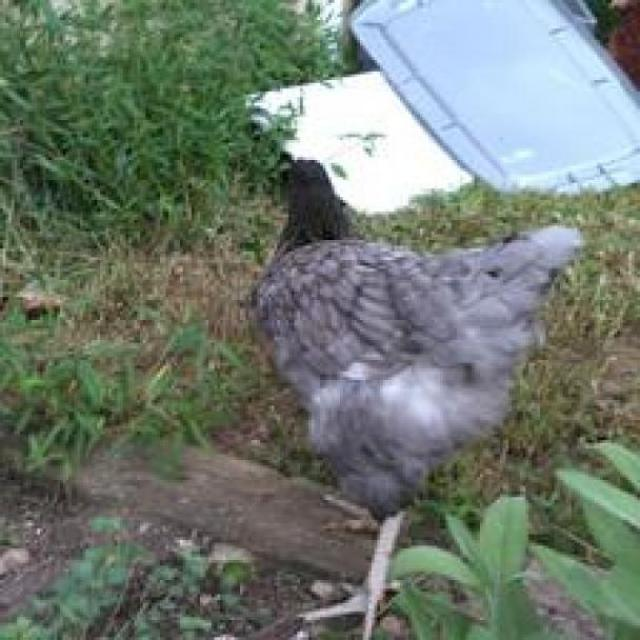Chicken: (219, 152, 607, 640)
